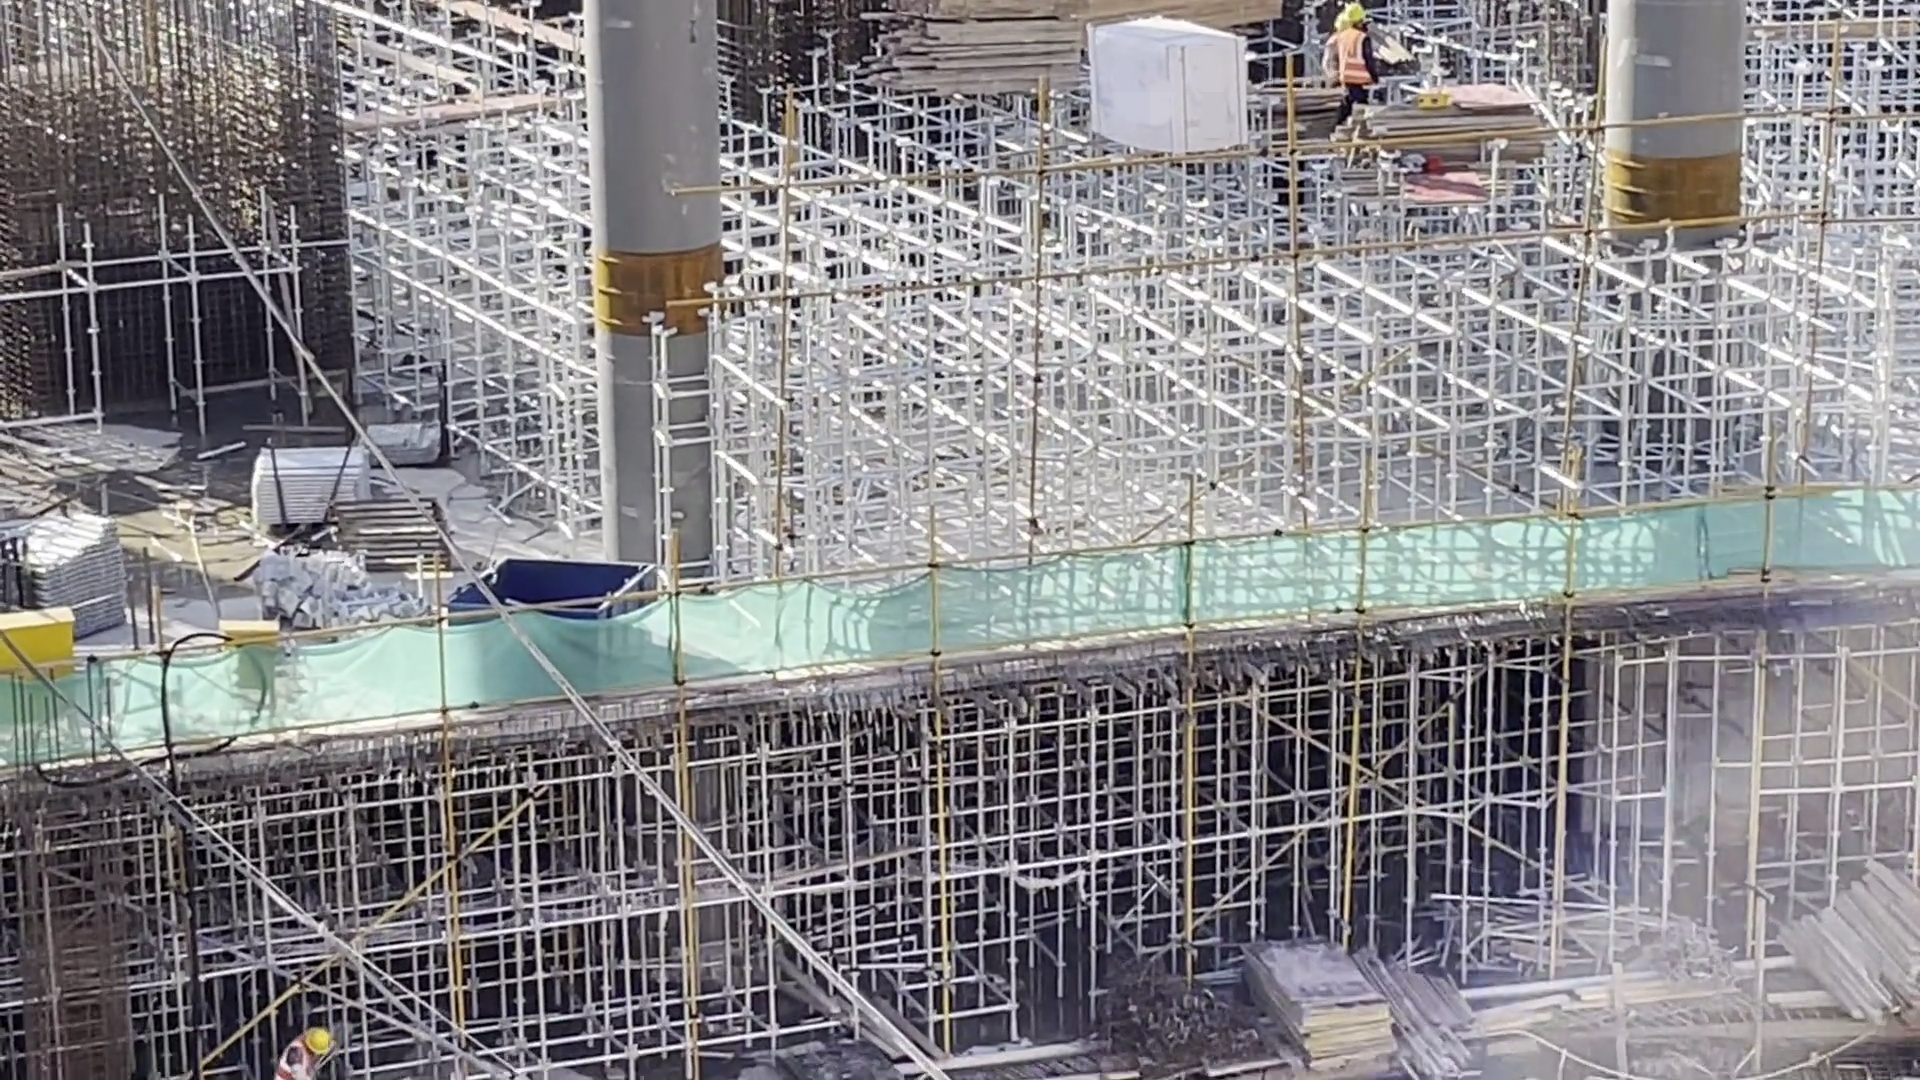board: (1236, 936, 1414, 1080), (1374, 87, 1543, 177)
ebox: (28, 611, 91, 722), (236, 631, 284, 686)
helmet: (306, 1029, 326, 1044), (1351, 3, 1366, 23), (1334, 12, 1347, 31)
hopper: (464, 549, 648, 672)
person: (1341, 1, 1374, 121), (274, 1023, 325, 1080), (1316, 6, 1341, 78)
scaffold: (18, 497, 136, 636), (253, 451, 398, 534)
vest: (278, 1041, 319, 1074), (1354, 41, 1366, 92), (1329, 36, 1339, 72)
wood: (1784, 832, 1920, 995), (869, 1, 1070, 94)
